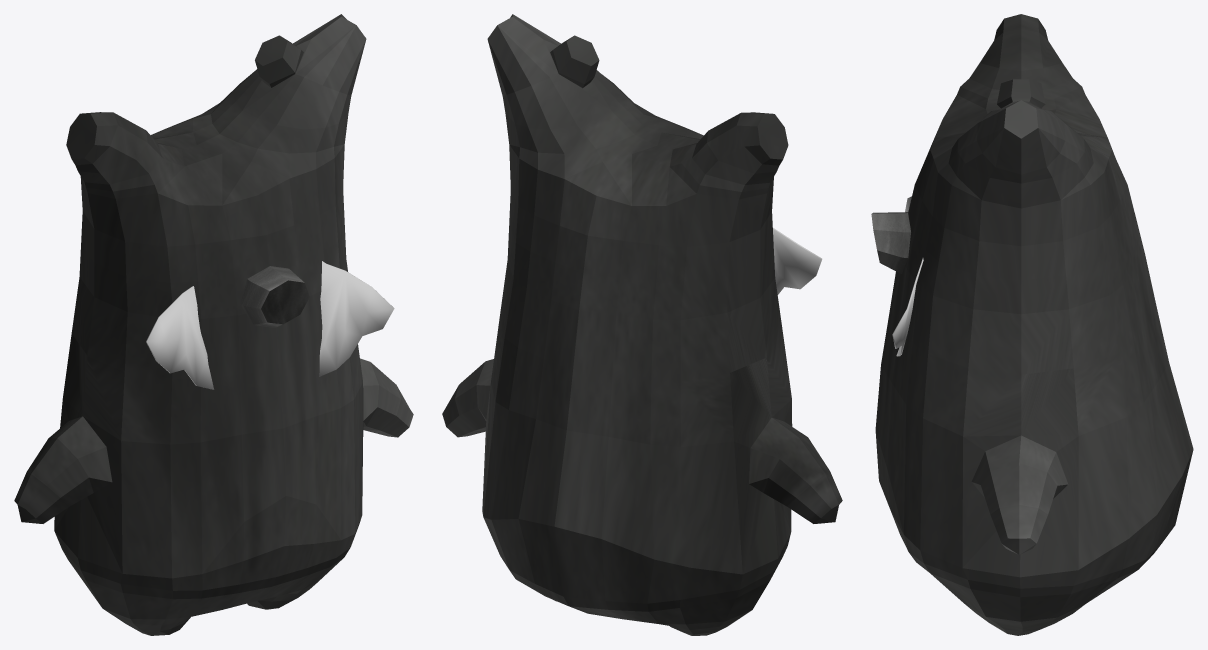
The model's file is frame_0024.obj.
3 views of the same model, side by side, from view 1: azimuth 30°, elevation 25°; view 2: azimuth 150°, elevation 25°; view 3: azimuth 270°, elevation 25° (orthographic).
Visible parts, largest first — view 1: korok, leaf, nose; view 2: korok, leaf; view 3: korok, nose, leaf.
Boxes of the visible parts, left/top/right/bottom form: korok: left=14, top=14, right=413, bottom=635; leaf: left=146, top=261, right=394, bottom=389; nose: left=240, top=266, right=309, bottom=327; korok: left=442, top=14, right=842, bottom=635; leaf: left=773, top=228, right=822, bottom=294; korok: left=875, top=14, right=1193, bottom=635; nose: left=871, top=212, right=910, bottom=273; leaf: left=892, top=196, right=923, bottom=356.
Size of the model in its own units: 1.66 by 2.3 by 1.18.
